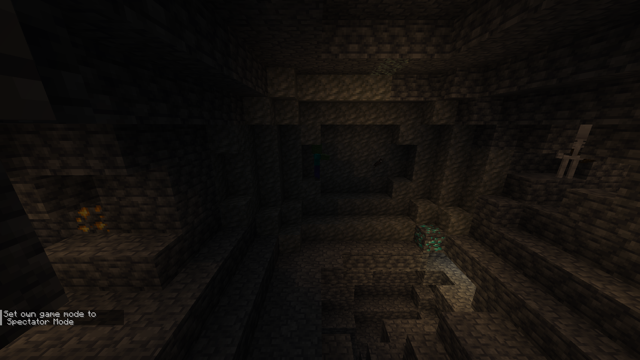diamond: (415, 222, 447, 252)
gold: (70, 203, 110, 234)
